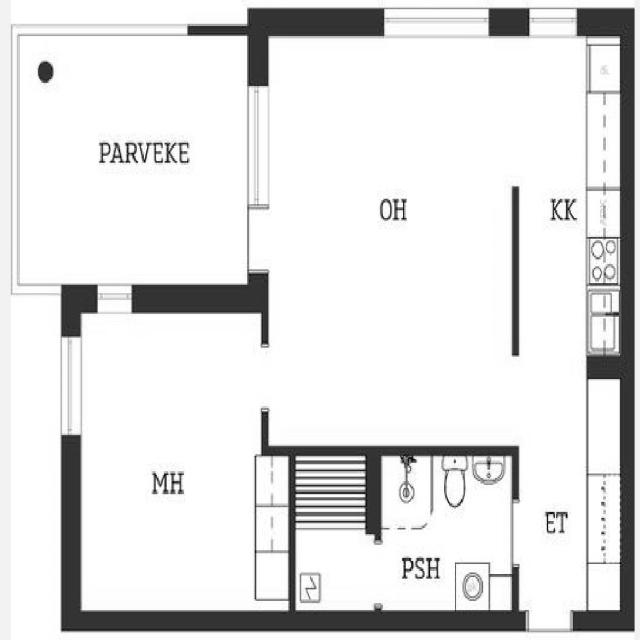window: (292, 448, 376, 551), (241, 71, 278, 218), (375, 4, 497, 45), (54, 319, 88, 452), (90, 274, 143, 318), (522, 2, 584, 39), (506, 493, 524, 572)
zone: (262, 24, 632, 451), (17, 25, 256, 290), (73, 300, 264, 616), (374, 449, 515, 612)
